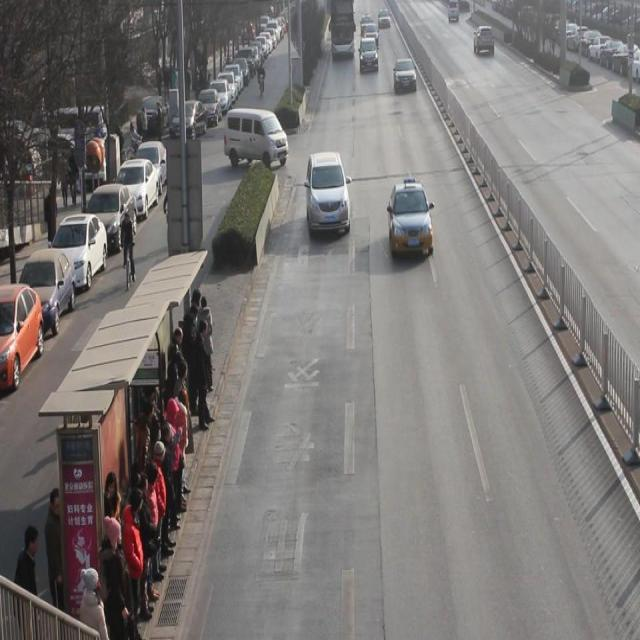car: (308, 152, 352, 236), (389, 183, 435, 260), (394, 58, 418, 94), (360, 37, 381, 74)
